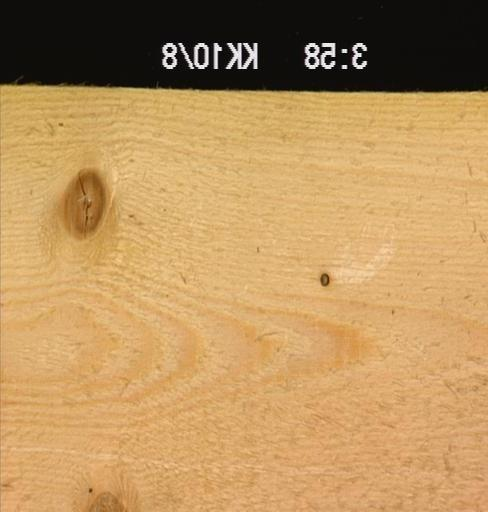dry_knot: (318, 268, 332, 287)
edge_knot: (82, 485, 131, 511)
sound_knot: (58, 166, 108, 240)
